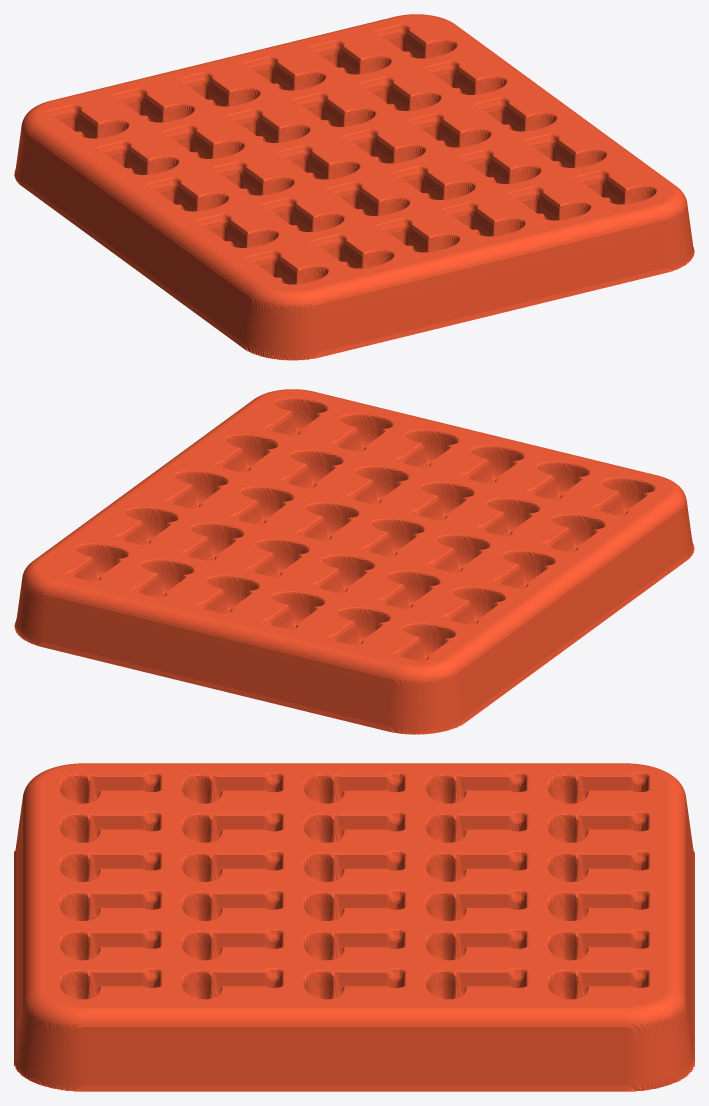
File: mold.glb
The picture shows the model from 3 angles, top to bottom: view 1: azimuth 30°, elevation 25°; view 2: azimuth 150°, elevation 25°; view 3: azimuth 270°, elevation 25°; orthographic projection. The views are drawn at different scales.
Parts seen in each view (by area): view 1: geometry_0; view 2: geometry_0; view 3: geometry_0.
Part boxes in pixels (x1,y1,x2,y2): geometry_0: [14, 14, 694, 360]; geometry_0: [14, 389, 694, 734]; geometry_0: [14, 763, 694, 1091].
Size of the model in its own units: 0.0812 by 0.0105 by 0.0882.
